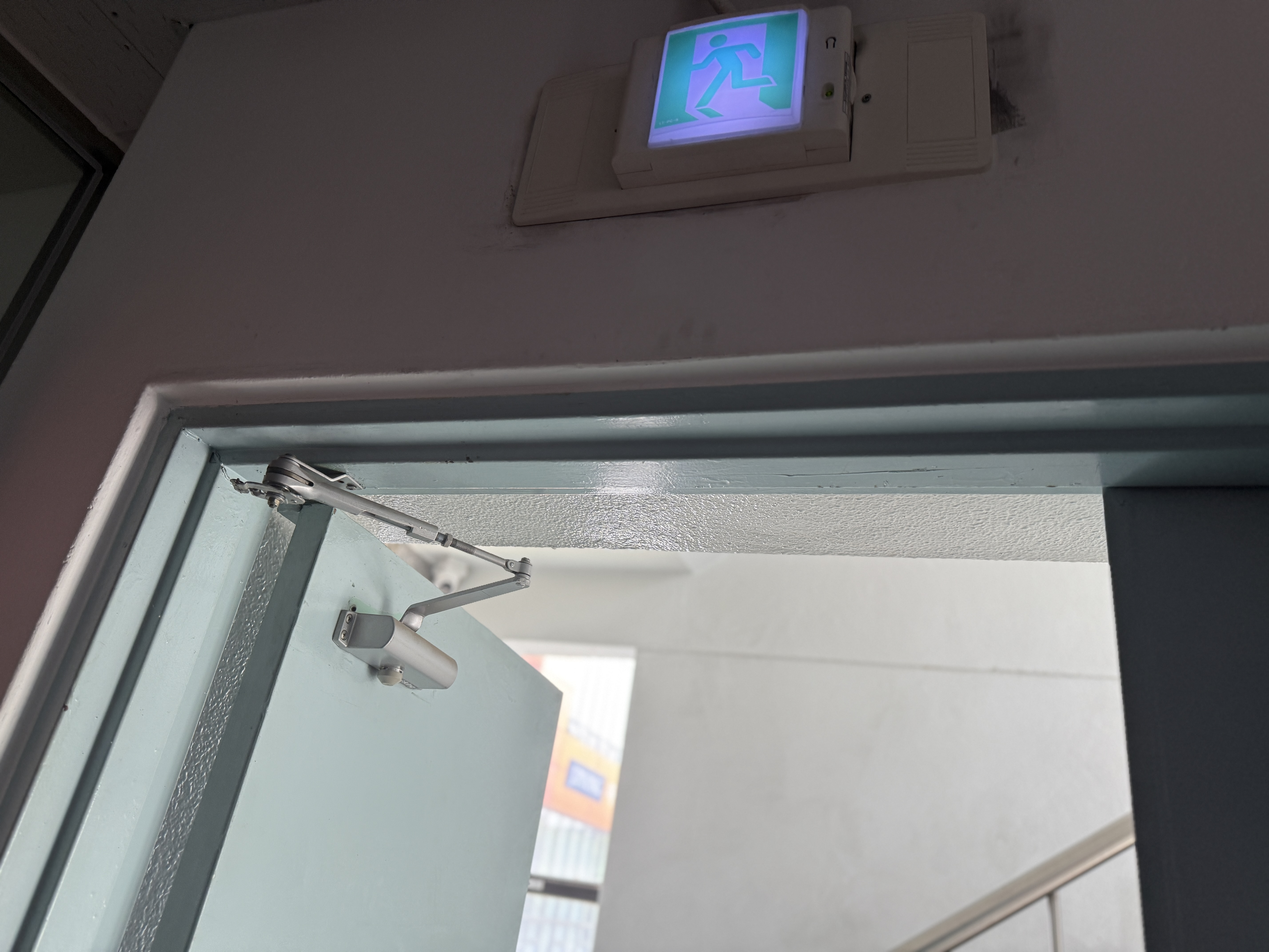emergency_exit: (610, 4, 854, 187), (645, 6, 810, 150)
